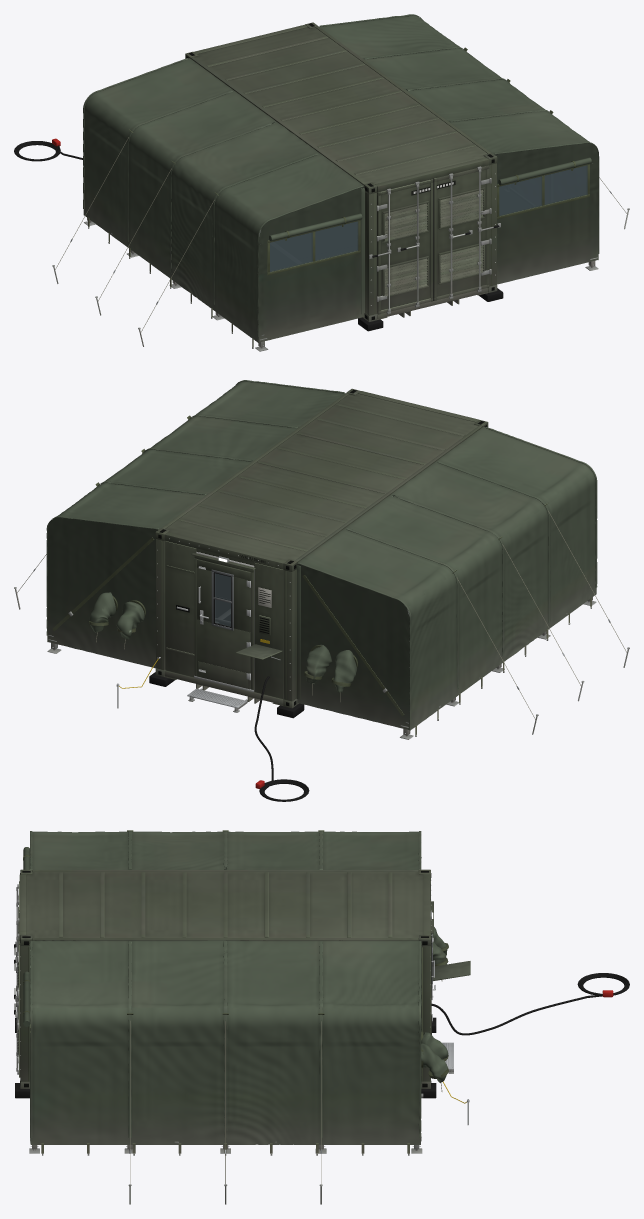
Rendered from mecc-ar.glb.
3 views of the same model, one above another, from view 1: azimuth 30°, elevation 25°; view 2: azimuth 150°, elevation 25°; view 3: azimuth 270°, elevation 25° (orthographic). The views are drawn at different scales.
Visible parts, largest first — view 1: MECC_expansion_L, MECC_core, MECC_expansion_R, MECC_site_kit; view 2: MECC_expansion_L, MECC_core, MECC_expansion_R, MECC_site_kit; view 3: MECC_expansion_R, MECC_core, MECC_expansion_L, MECC_site_kit.
Part boxes in pixels (<box>): MECC_expansion_L: <box>52,58,364,351</box>; MECC_core: <box>185,22,503,331</box>; MECC_expansion_R: <box>319,14,629,284</box>; MECC_site_kit: <box>14,138,82,161</box>; MECC_expansion_L: <box>296,427,629,739</box>; MECC_core: <box>149,388,488,718</box>; MECC_expansion_R: <box>14,380,345,668</box>; MECC_site_kit: <box>116,657,309,801</box>; MECC_expansion_R: <box>23,940,448,1204</box>; MECC_core: <box>14,869,470,1098</box>; MECC_expansion_L: <box>23,830,448,981</box>; MECC_site_kit: <box>431,973,629,1125</box>.
Bounding box in the file's own units: 9.34 × 2.86 × 9.09.
Materials: 22 (7 with a texture image).
